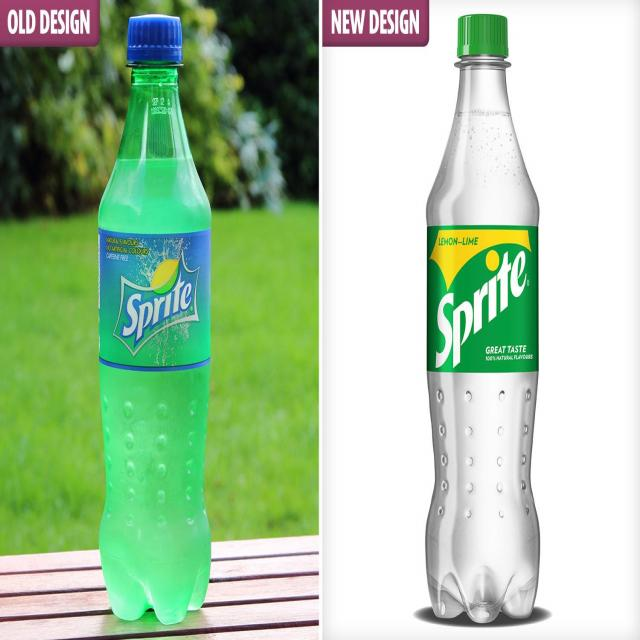plastic_bottle: (420, 14, 552, 631), (99, 14, 224, 640)
